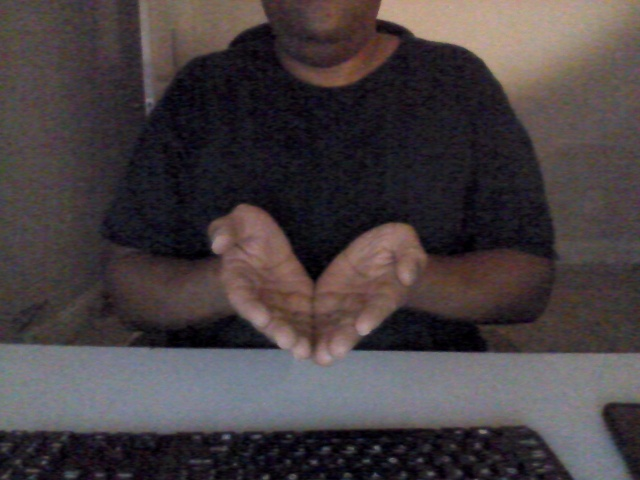book: (203, 195, 435, 371)
